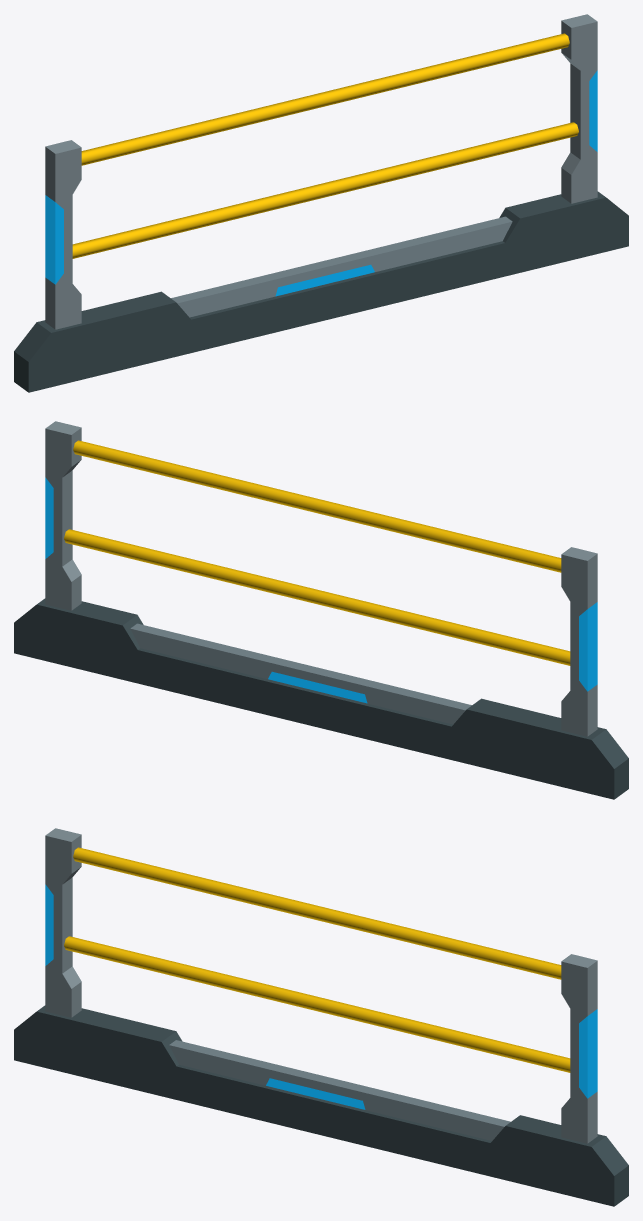
Rendered from Fence_type_C_008.glb.
3 renders of one model, top to bottom at view 1: azimuth 30°, elevation 25°; view 2: azimuth 150°, elevation 25°; view 3: azimuth 330°, elevation 25°, orthographic.
Visible parts, largest first — view 1: Fence_type_C_008; view 2: Fence_type_C_008; view 3: Fence_type_C_008.
Part boxes in pixels (x1=…): Fence_type_C_008: x1=14, y1=14, x2=628, y2=392; Fence_type_C_008: x1=14, y1=421, x2=628, y2=799; Fence_type_C_008: x1=14, y1=828, x2=628, y2=1206.
Size of the model in its own units: 3.89 by 1.42 by 0.1653.
Materials: 2 (2 with a texture image).
